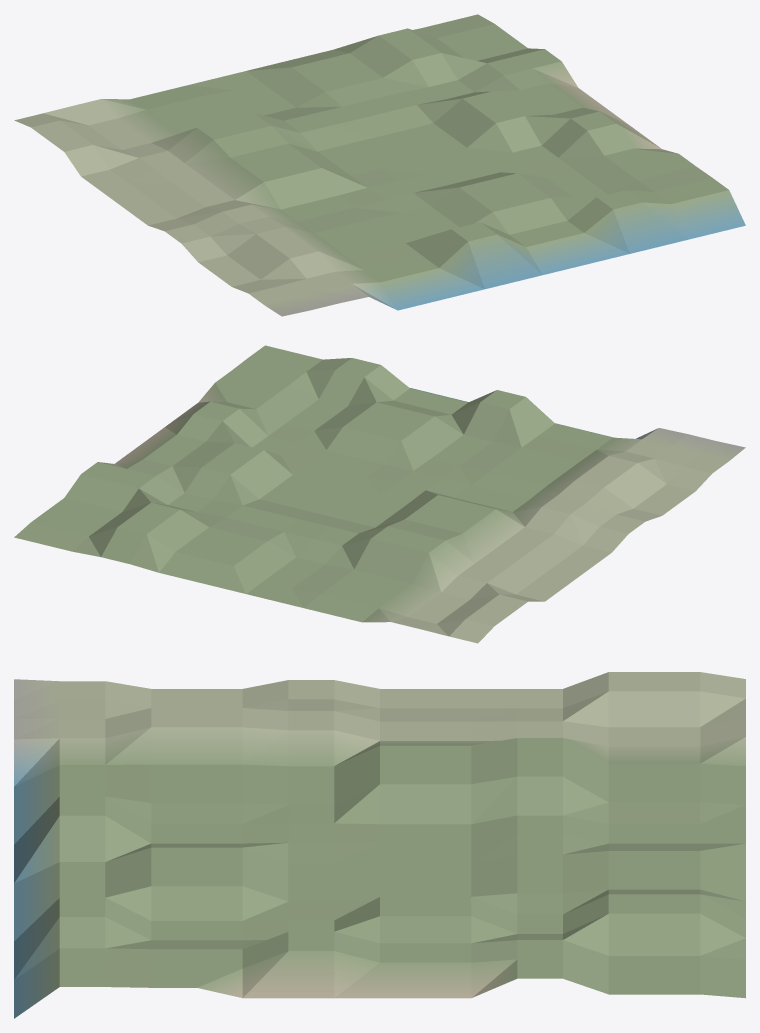
3 views of the same model, one above another, from view 1: azimuth 30°, elevation 25°; view 2: azimuth 150°, elevation 25°; view 3: azimuth 270°, elevation 25° (orthographic). The views are drawn at different scales.
Size of the model in its own units: 32 by 2.36 by 32.
